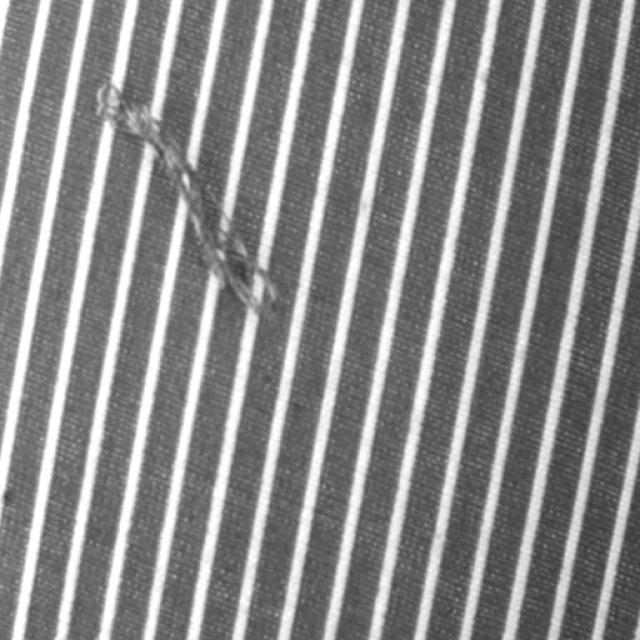Foreign-Body-Defect: (96, 80, 280, 314)
